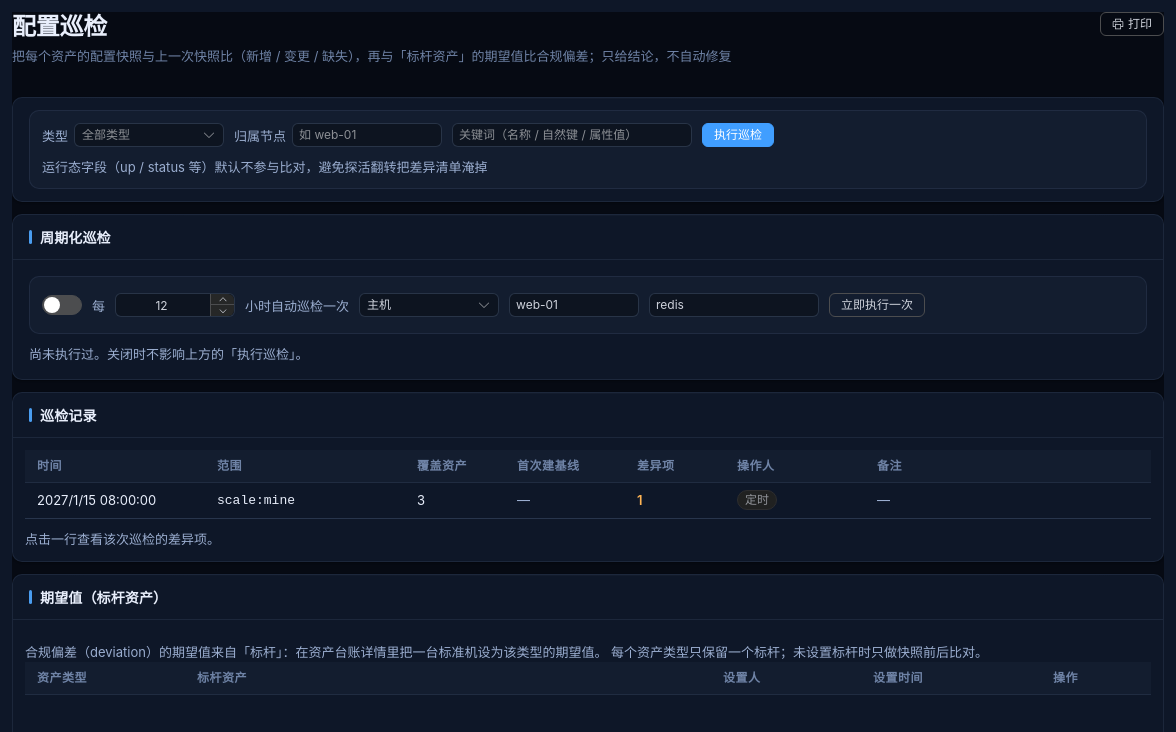
Test case: InspectView 记录与周期化的衔接 › 选中定时跑的记录能取回差异项
Click the row "2027/1/15 08:00:00 scale:mine 3 — 1 定时 —": (588, 501) [25,483,1151,518]
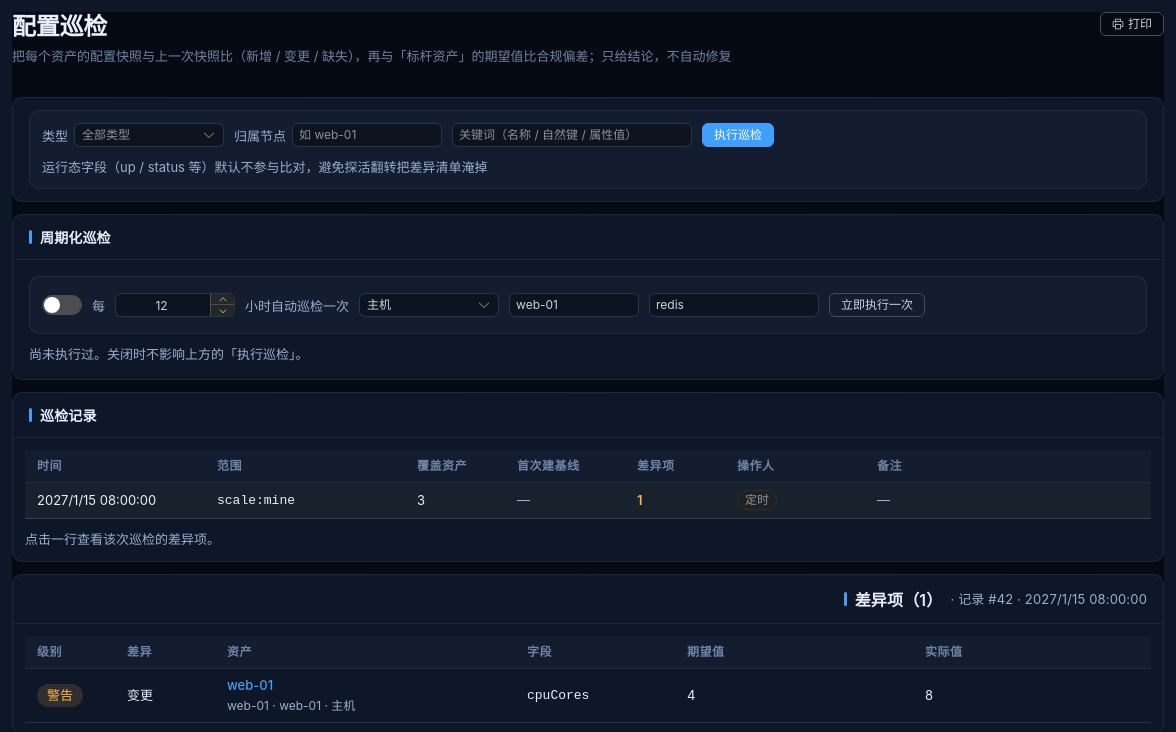
Expected: the text "cpuCores" is shown, [527,688,589,703]
